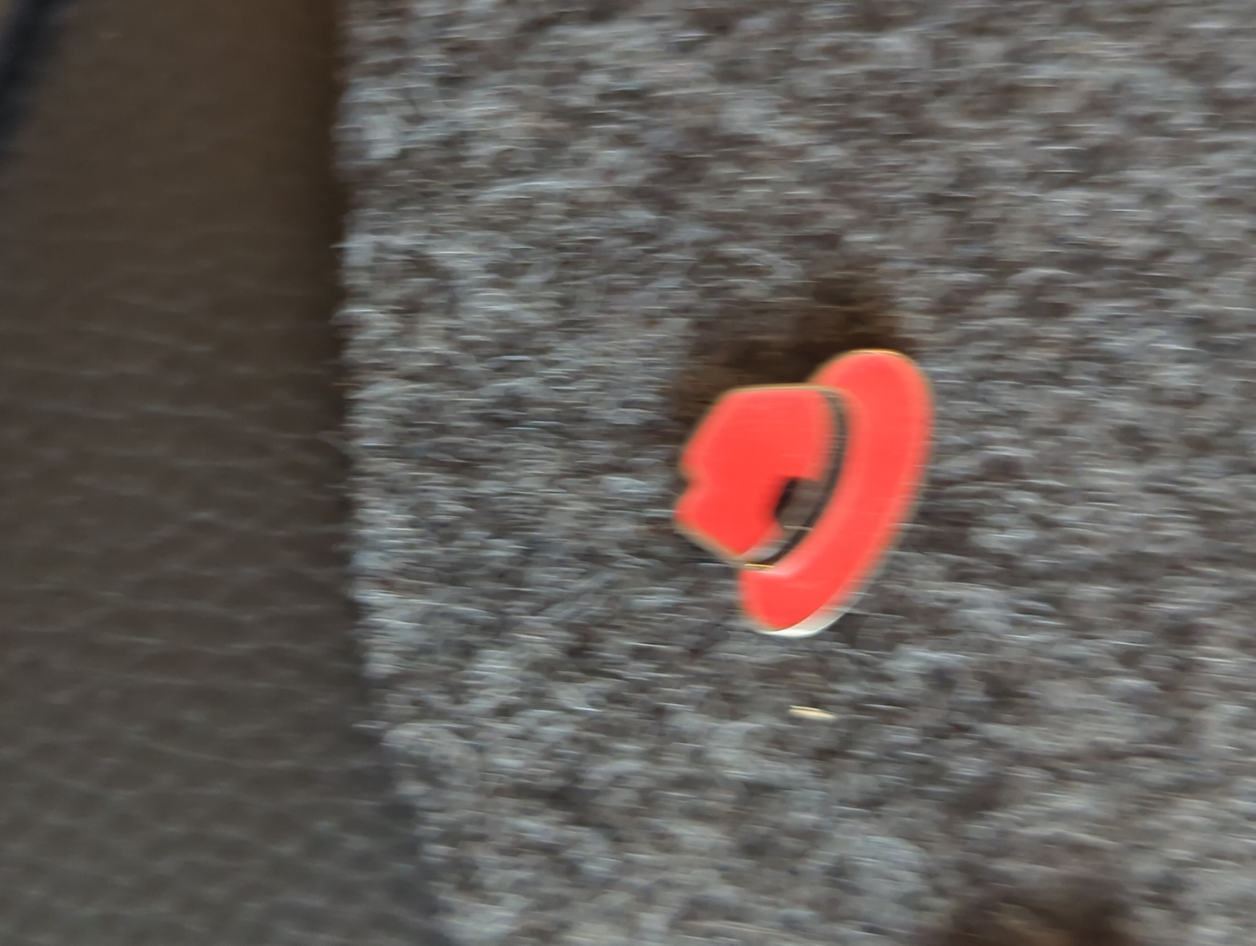Red-Hat: (616, 280, 1011, 710)
Scratch: (751, 443, 849, 545)
